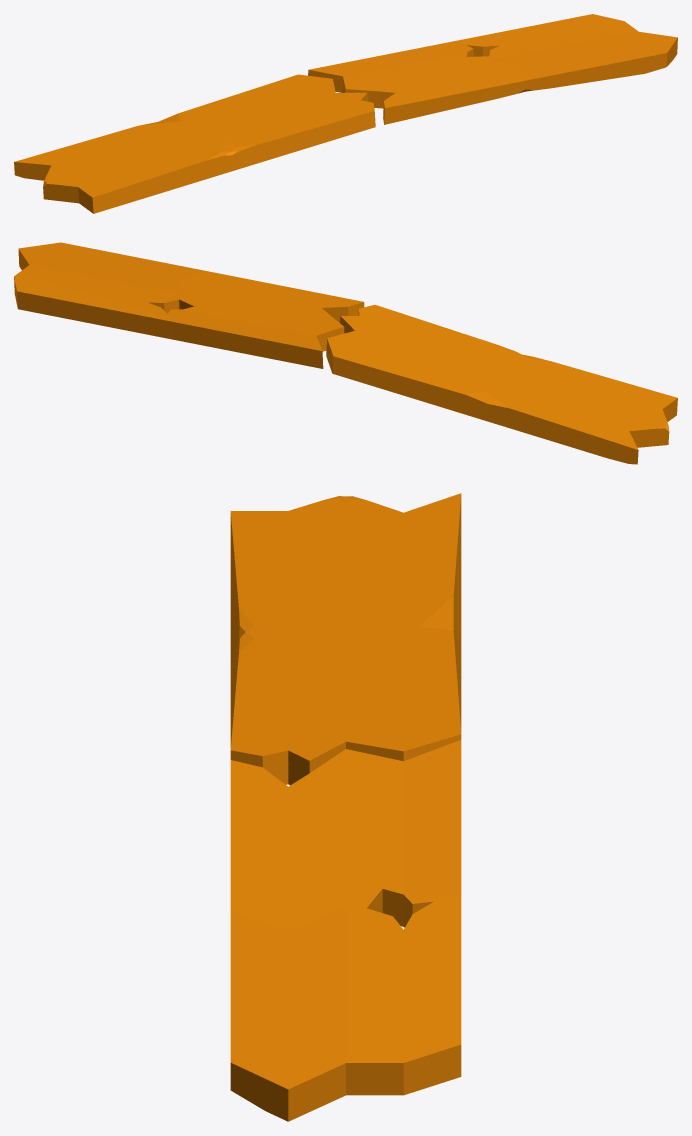
The model's file is Rotten and broken wood_7.fbx.
The picture shows the model from 3 angles, top to bottom: view 1: azimuth 30°, elevation 25°; view 2: azimuth 150°, elevation 25°; view 3: azimuth 270°, elevation 25°; orthographic projection. The views are drawn at different scales.
Visible parts, largest first — view 1: Cube.070, Cube.066; view 2: Cube.070, Cube.066; view 3: Cube.066, Cube.070.
Part boxes in pixels (x1,y1,x2,y2): Cube.070: (14,74,375,213); Cube.066: (308,14,677,124); Cube.070: (326,305,677,464); Cube.066: (14,242,364,368); Cube.066: (230,740,461,1121); Cube.070: (230,493,461,785).
Size of the model in its own units: 81.19 by 4.6 by 13.07.
